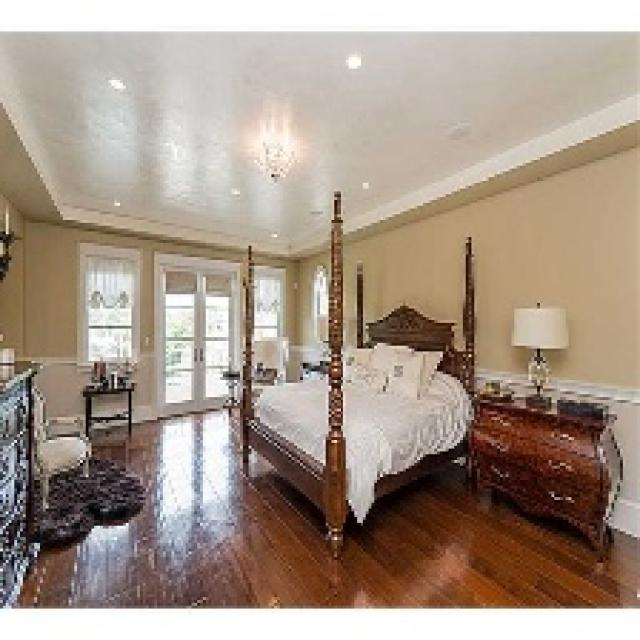Bed: (240, 189, 474, 557)
